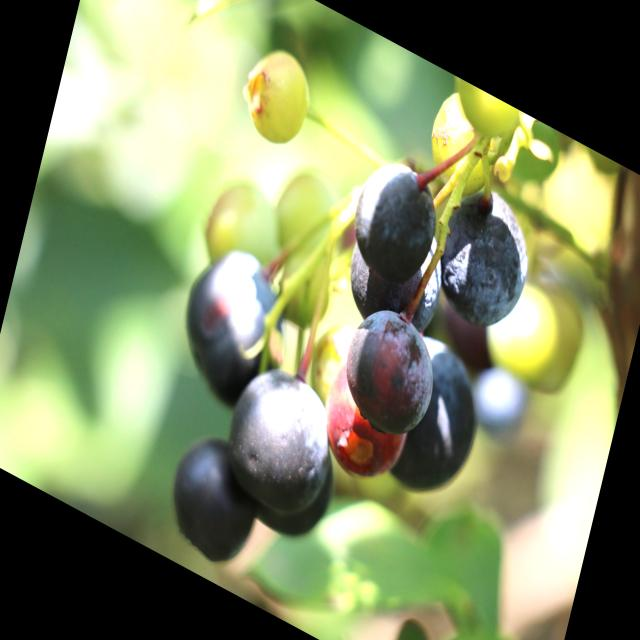blueberry: (162, 224, 304, 437), (210, 344, 350, 544), (422, 163, 548, 351), (382, 325, 500, 523), (332, 188, 456, 364), (330, 284, 448, 457), (156, 410, 272, 580), (341, 140, 450, 302), (249, 428, 341, 562), (457, 345, 541, 462)
blueberry-halfripe: (308, 352, 420, 498)
blueberry-unripe: (481, 263, 573, 402), (199, 164, 290, 295), (422, 83, 508, 204), (239, 34, 321, 160), (272, 163, 346, 270)
